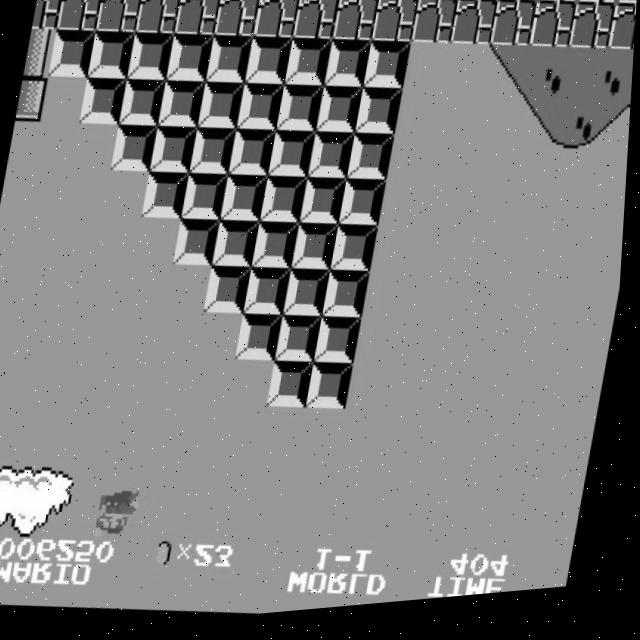11- little_mario: (97, 489, 148, 546)
14- pipe: (24, 27, 56, 79)
15- pipe_head: (16, 74, 48, 124)
17- undestructible_block: (529, 6, 578, 61), (450, 3, 499, 57), (411, 0, 459, 54), (490, 4, 538, 58), (569, 9, 617, 63), (371, 0, 420, 52), (332, 0, 380, 50), (292, 0, 341, 48), (253, 0, 301, 46), (214, 0, 262, 44), (174, 0, 222, 42), (135, 0, 183, 39), (95, 0, 143, 37), (55, 0, 103, 35), (608, 12, 637, 65), (31, 0, 63, 33), (577, 0, 621, 17), (537, 0, 581, 15), (498, 0, 542, 13), (458, 0, 502, 11), (616, 0, 638, 19), (419, 0, 463, 9), (379, 0, 424, 7), (340, 0, 384, 5), (300, 0, 344, 2)
9- hard_block: (87, 29, 136, 84), (238, 314, 287, 369), (119, 77, 168, 131), (166, 34, 215, 88), (214, 221, 263, 275), (245, 38, 294, 92), (278, 317, 327, 371), (324, 42, 373, 96), (325, 273, 374, 327), (198, 81, 246, 136), (247, 268, 295, 323), (277, 85, 325, 140), (301, 179, 349, 234), (318, 318, 366, 373), (111, 124, 160, 177), (175, 220, 224, 273), (190, 128, 239, 181), (230, 130, 279, 183), (254, 224, 303, 277), (269, 132, 318, 185), (48, 27, 96, 81), (80, 75, 128, 129), (127, 32, 175, 86), (144, 171, 192, 225), (159, 79, 207, 133), (183, 173, 231, 227), (206, 36, 254, 90), (207, 267, 255, 321), (222, 175, 270, 229), (238, 83, 286, 137), (262, 177, 310, 231), (285, 40, 333, 94), (286, 271, 334, 325), (317, 88, 365, 142), (341, 181, 389, 235), (356, 90, 404, 144), (364, 44, 412, 98), (151, 126, 199, 179), (271, 363, 319, 416), (294, 226, 342, 279), (309, 134, 357, 187), (310, 365, 358, 418), (333, 228, 381, 281), (349, 136, 397, 189)
